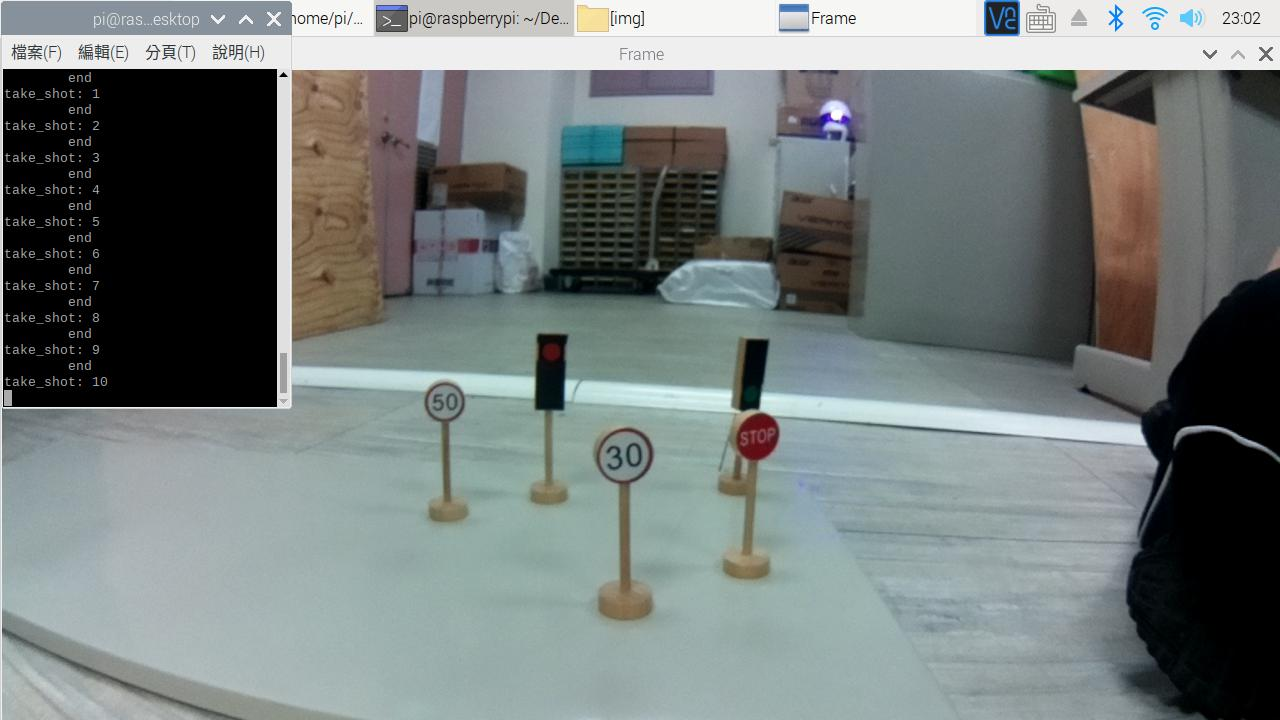Green: (740, 331, 763, 408)
Red: (535, 330, 563, 414)
Speed30: (596, 429, 663, 483)
Speed50: (422, 379, 463, 421)
Stop: (736, 418, 785, 457)
